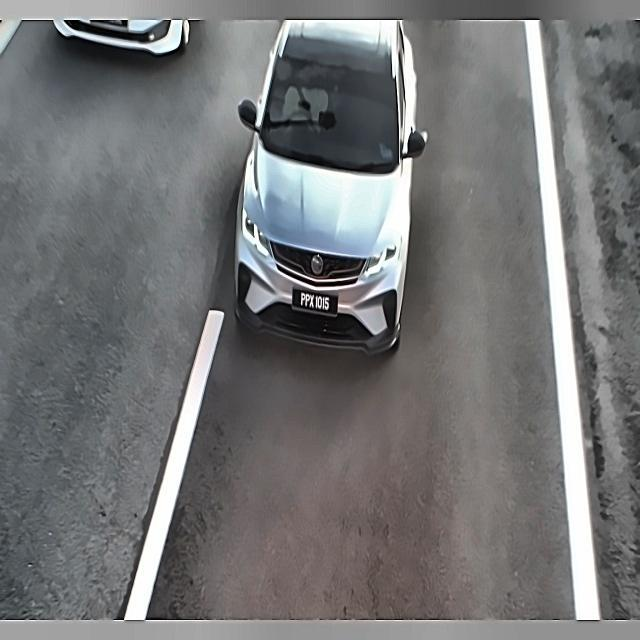car: (296, 282, 334, 320)
